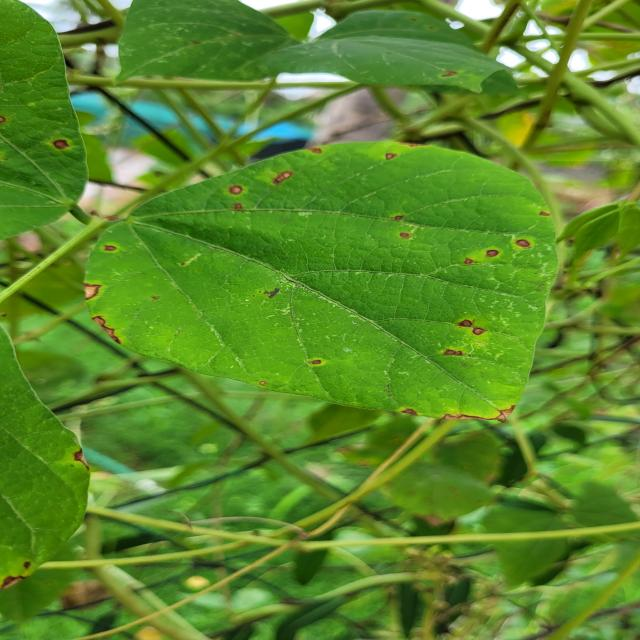Dolicos bean_cercospora leaf spot: (84, 140, 556, 425), (0, 0, 91, 248)
